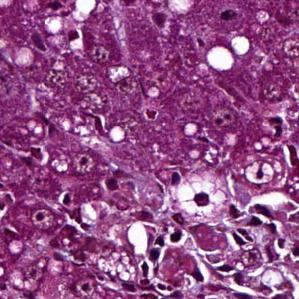ballooning: (171, 172, 232, 229)
